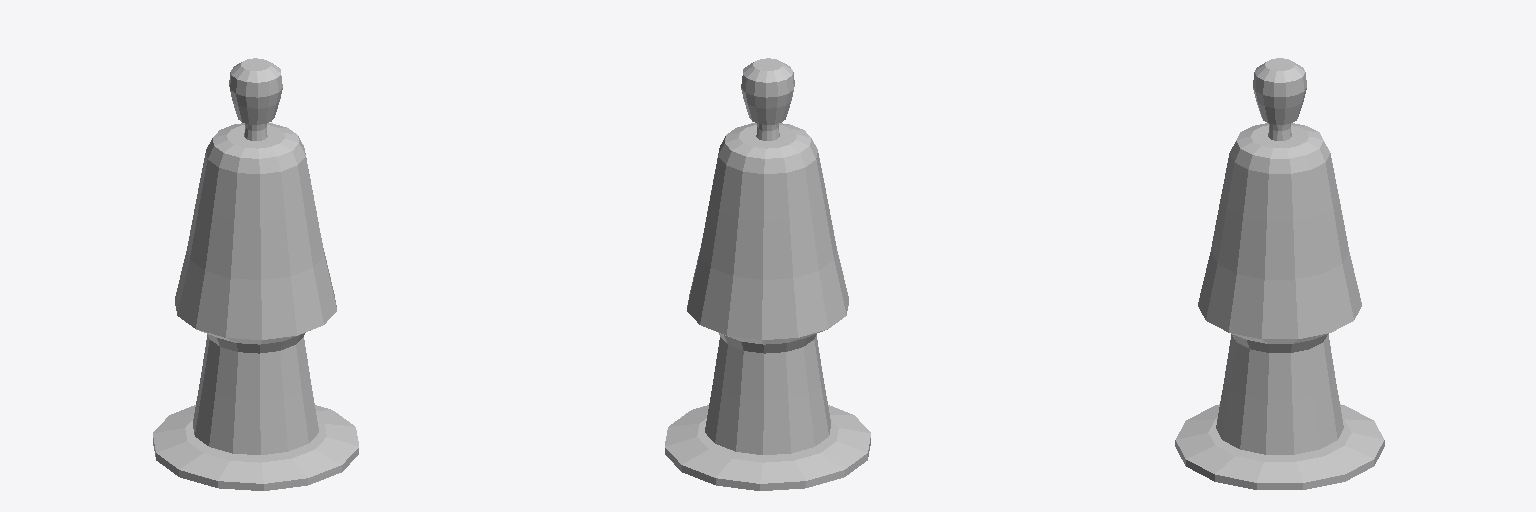
File: human-tall.obj
The picture shows the model from 3 angles: view 1: azimuth 30°, elevation 25°; view 2: azimuth 150°, elevation 25°; view 3: azimuth 270°, elevation 25°; orthographic projection.
Visible parts, largest first — view 1: human-tall; view 2: human-tall; view 3: human-tall.
Boxes of the visible parts, x1=… form: human-tall: x1=153, y1=58, x2=358, y2=490; human-tall: x1=665, y1=58, x2=870, y2=490; human-tall: x1=1175, y1=58, x2=1384, y2=489.
Size of the model in its own units: 0.85 by 1.76 by 0.8719.